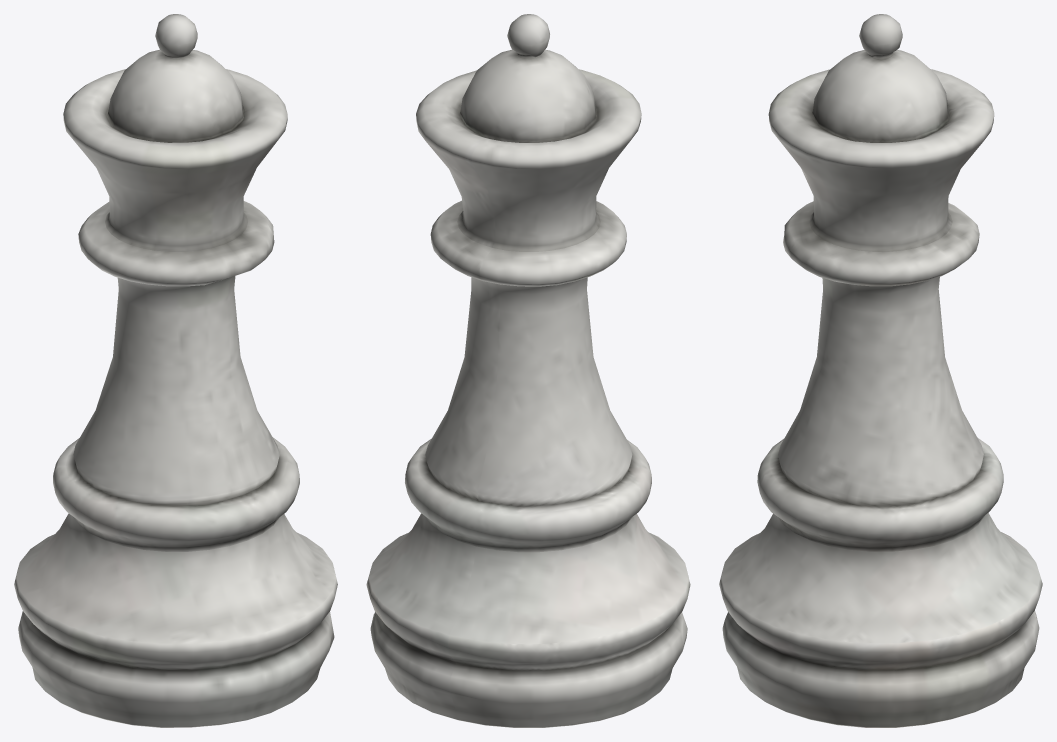
The model's file is queen_white.glb.
The picture shows the model from 3 angles, left to right: view 1: azimuth 30°, elevation 25°; view 2: azimuth 150°, elevation 25°; view 3: azimuth 270°, elevation 25°; orthographic projection.
Parts seen in each view (by area): view 1: piece_queen_white; view 2: piece_queen_white; view 3: piece_queen_white.
Boxes of the visible parts, left/top/right/bottom form: piece_queen_white: left=14, top=14, right=337, bottom=727; piece_queen_white: left=366, top=14, right=690, bottom=727; piece_queen_white: left=719, top=14, right=1042, bottom=727.
Size of the model in its own units: 0.0406 by 0.0907 by 0.0408.
1 material, 1 textured.
